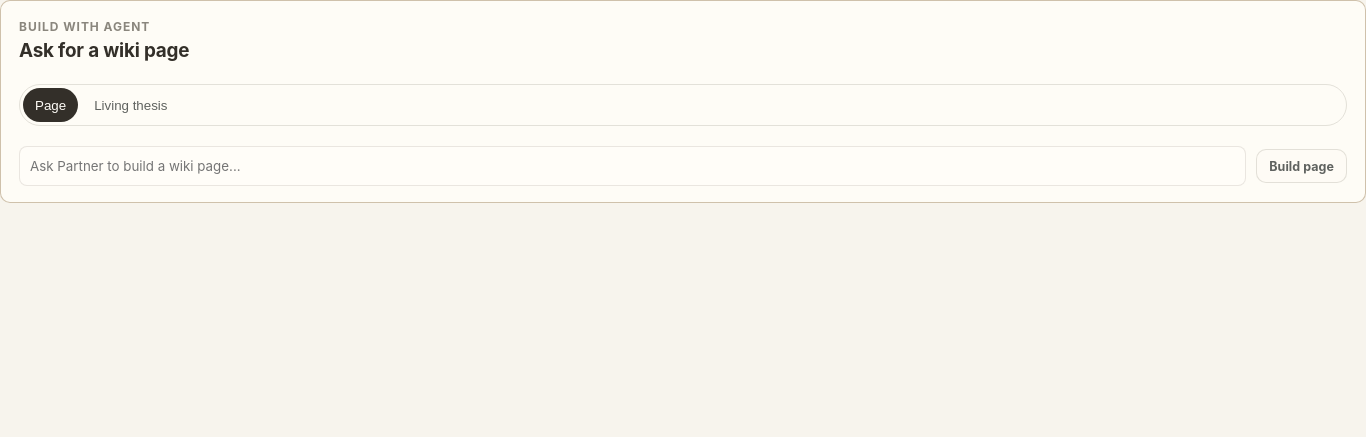
Test: WikiBuildPageComposer › creates a project wiki and arms the repo watcher when a GitHub URL is pasted
Type "https://github.com/openai/agents-js.git" into the field named "Wiki page to build" at (633, 166), box [19, 146, 1246, 186]
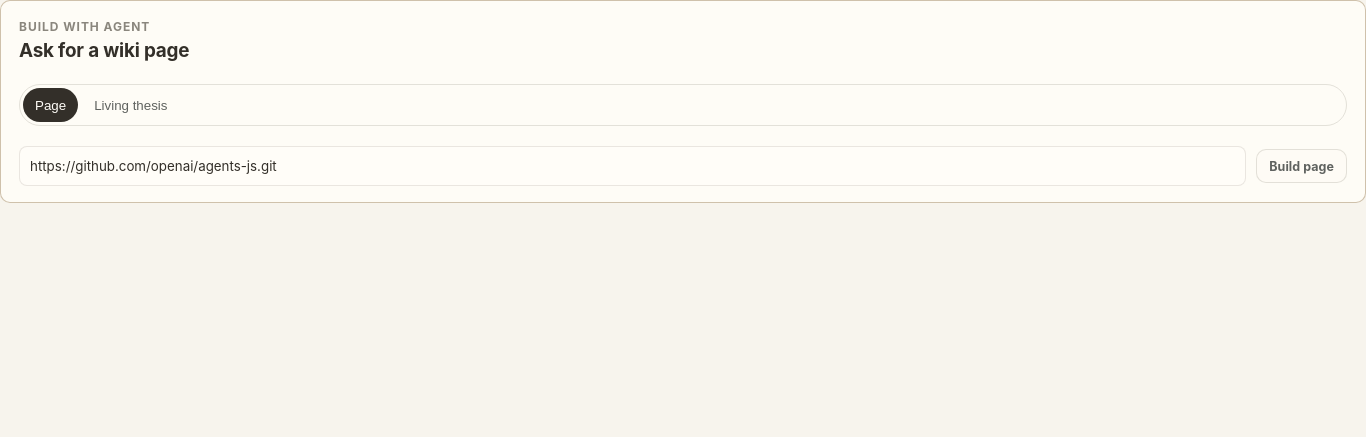
Click the button "Build page" at (1302, 166), box [1256, 149, 1347, 183]
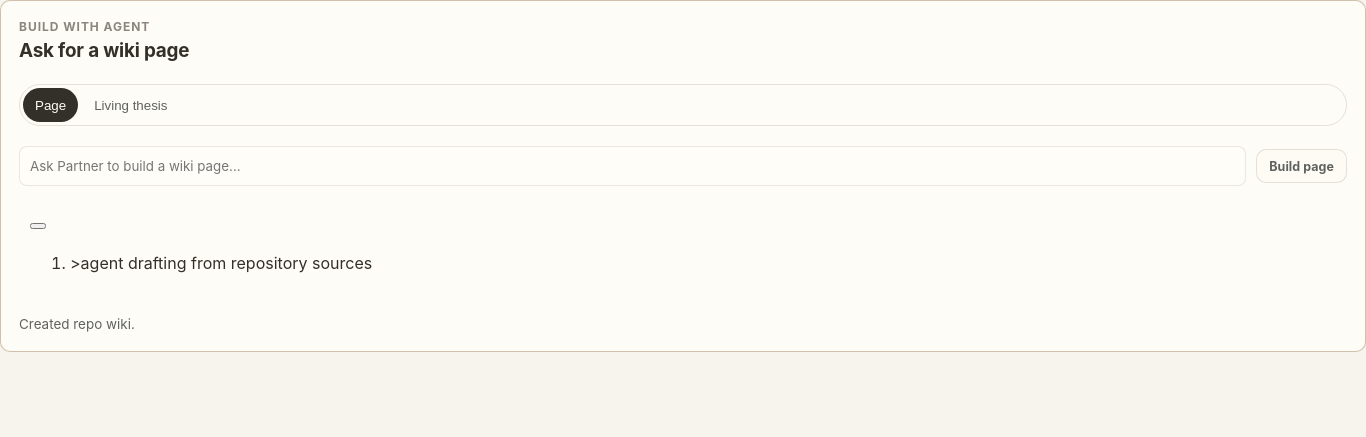
Click the button named "Expand 2 trace history lines" at (38, 226), box [30, 223, 46, 229]
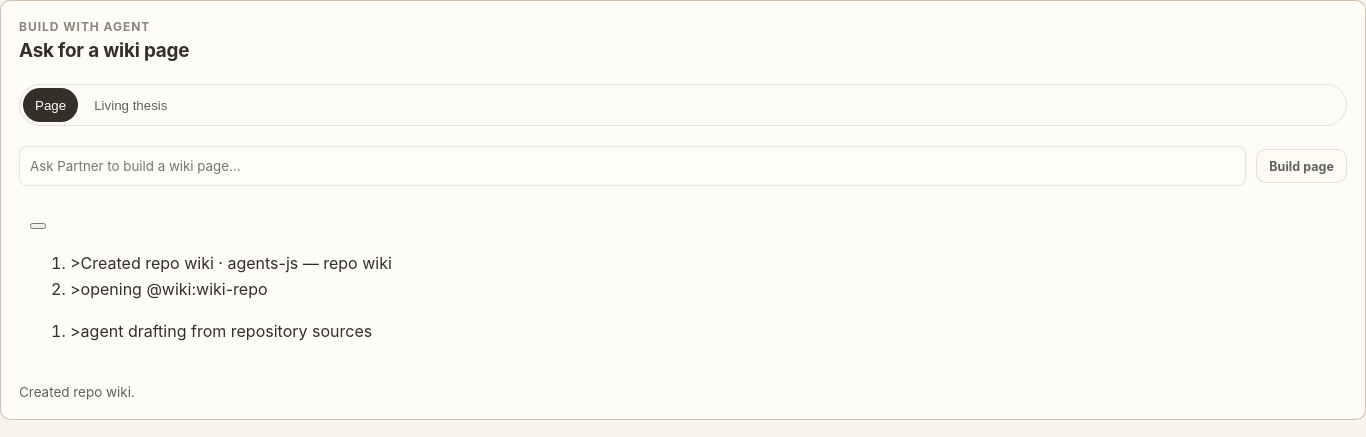
Check: the element named "Wiki build trace" shows "agent drafting from repository sources", box [81, 321, 372, 341]
Check: the message reads "Created repo wiki.", box [19, 384, 135, 400]
Check: the element named "Wiki build trace" shows "Created repo wiki · agents-js — repo wiki", box [81, 252, 392, 272]
